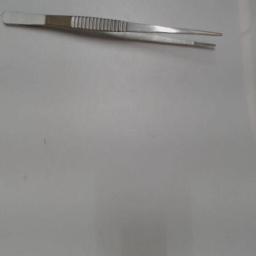DeBakey Dissector: (0, 4, 236, 72)
